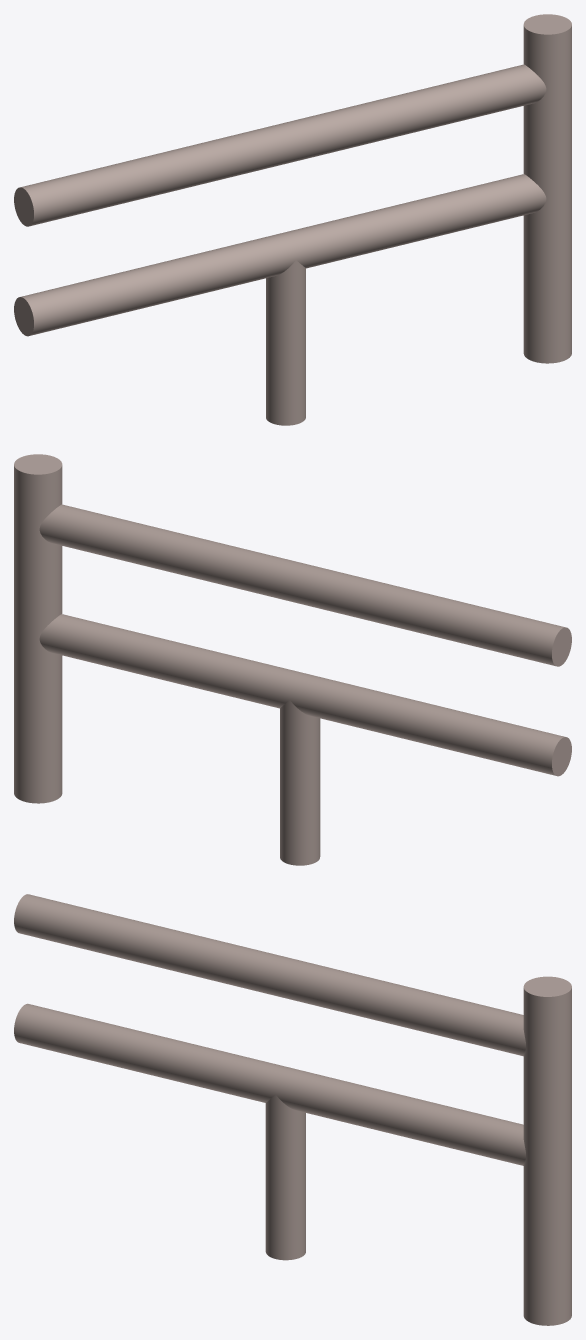
Rendered from 1026_fence_connect.glb.
3 renders of one model, top to bottom at view 1: azimuth 30°, elevation 25°; view 2: azimuth 150°, elevation 25°; view 3: azimuth 330°, elevation 25°, orthographic.
Parts seen in each view (by area): view 1: Body; view 2: Body; view 3: Body.
Part boxes in pixels (x1=…): Body: x1=14, y1=14, x2=571, y2=425; Body: x1=14, y1=454, x2=571, y2=865; Body: x1=14, y1=894, x2=571, y2=1325.
Bounding box in the file's own units: 1.56 × 0.9 × 0.12.
